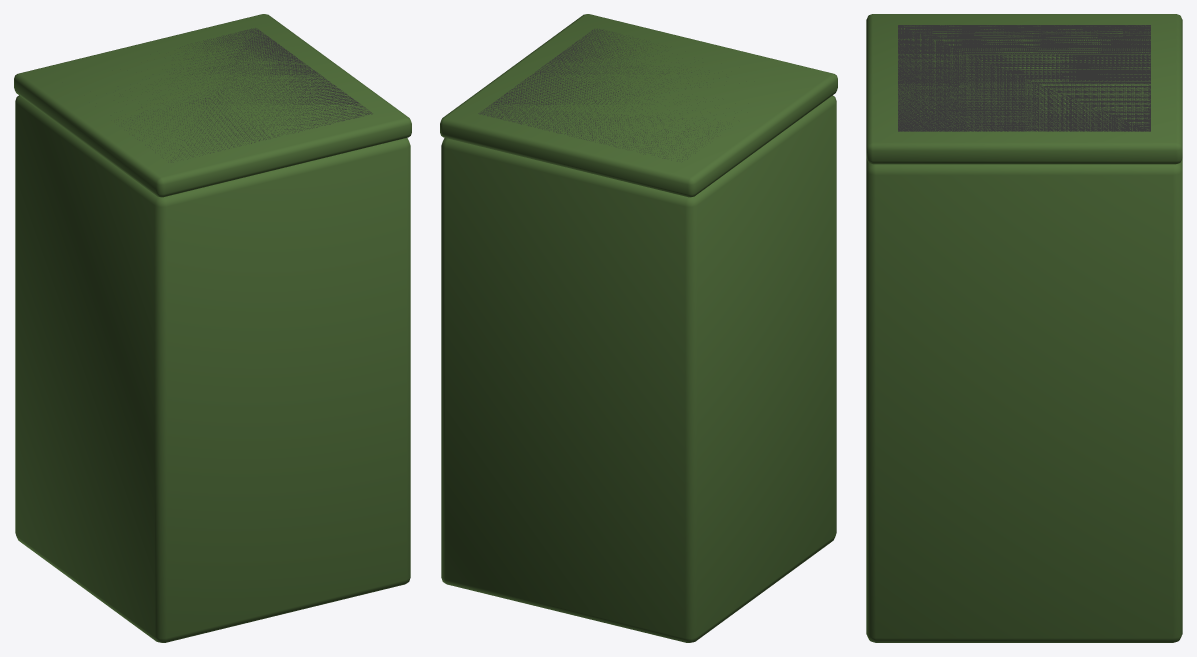
The model's file is utility.compost-green.glb.
3 views of the same model, side by side, from view 1: azimuth 30°, elevation 25°; view 2: azimuth 150°, elevation 25°; view 3: azimuth 270°, elevation 25° (orthographic). The views are drawn at different scales.
Parts seen in each view (by area): view 1: utility.compost-green.001; view 2: utility.compost-green.001; view 3: utility.compost-green.001.
Boxes of the visible parts, box(x1,y1,x2,y2) form: utility.compost-green.001: box(14, 14, 411, 642); utility.compost-green.001: box(440, 14, 837, 642); utility.compost-green.001: box(866, 14, 1182, 642).
Bounding box in the file's own units: 0.4 × 0.7 × 0.4.
